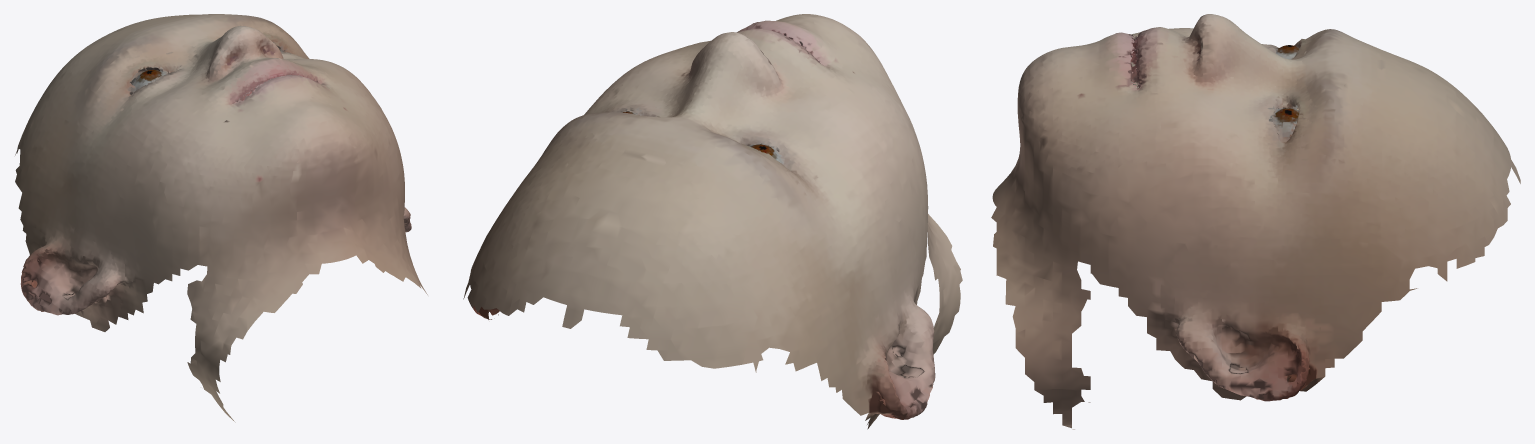
3 views of the same model, side by side, from view 1: azimuth 30°, elevation 25°; view 2: azimuth 150°, elevation 25°; view 3: azimuth 270°, elevation 25° (orthographic). The views are drawn at different scales.
Parts seen in each view (by area): view 1: face_mesh_poisson_11zon_resized.ply; view 2: face_mesh_poisson_11zon_resized.ply; view 3: face_mesh_poisson_11zon_resized.ply.
Part boxes in pixels (x1,y1,x2,y2): face_mesh_poisson_11zon_resized.ply: [15, 14, 427, 422]; face_mesh_poisson_11zon_resized.ply: [463, 14, 962, 429]; face_mesh_poisson_11zon_resized.ply: [991, 14, 1520, 429].
Bounding box in the file's own units: 2.2 × 1.97 × 2.45.
